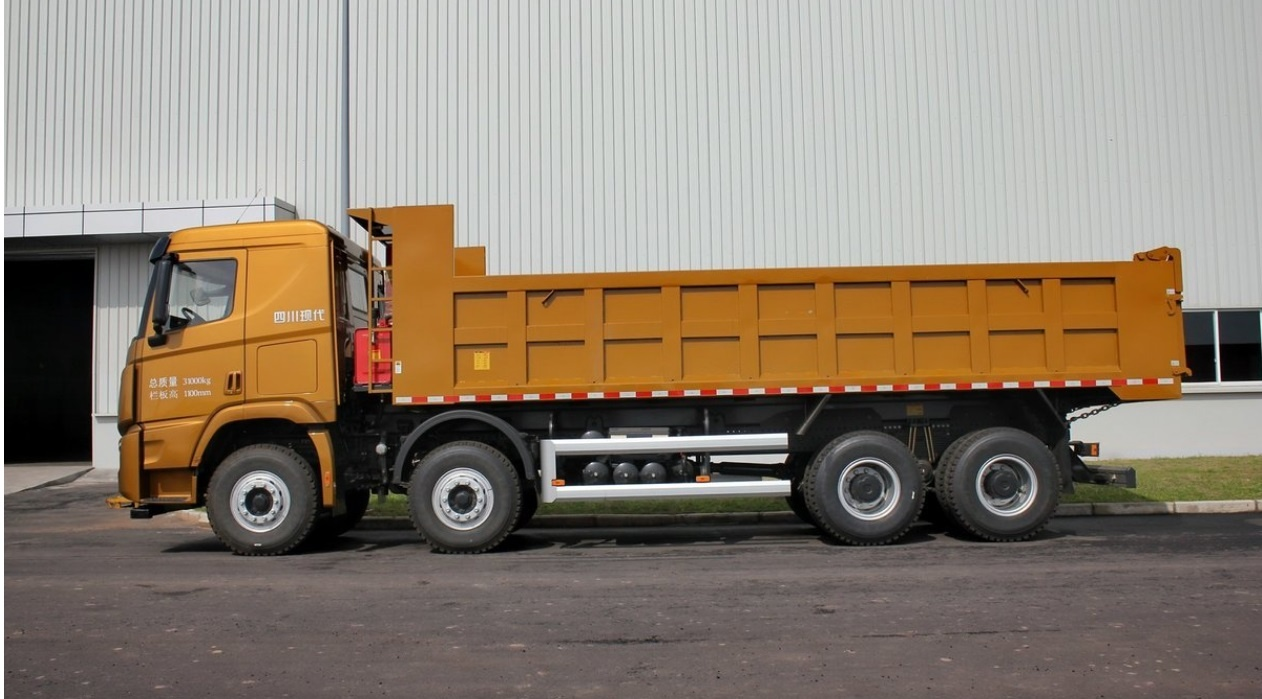heavy truck: (98, 206, 1202, 561)
